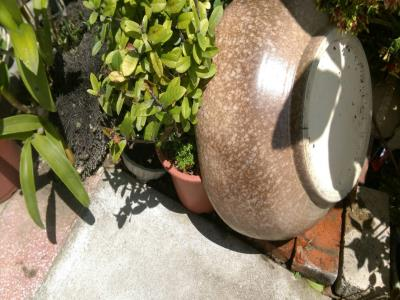bowl: (194, 2, 377, 246)
